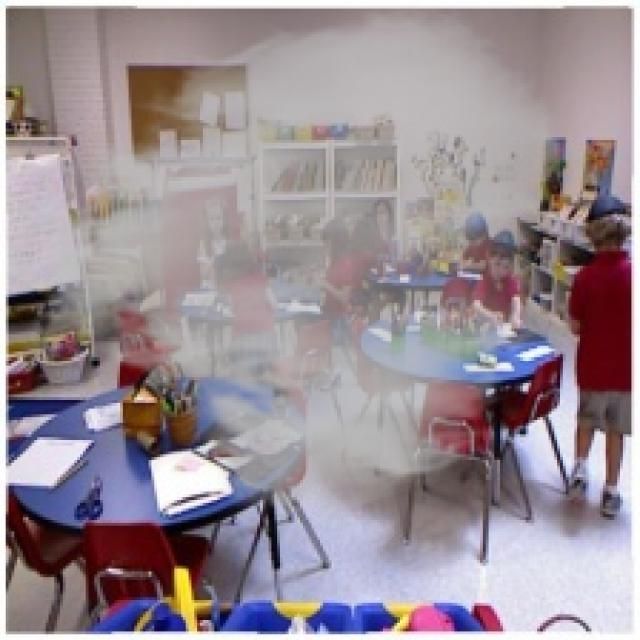smoke: (14, 3, 569, 517)
